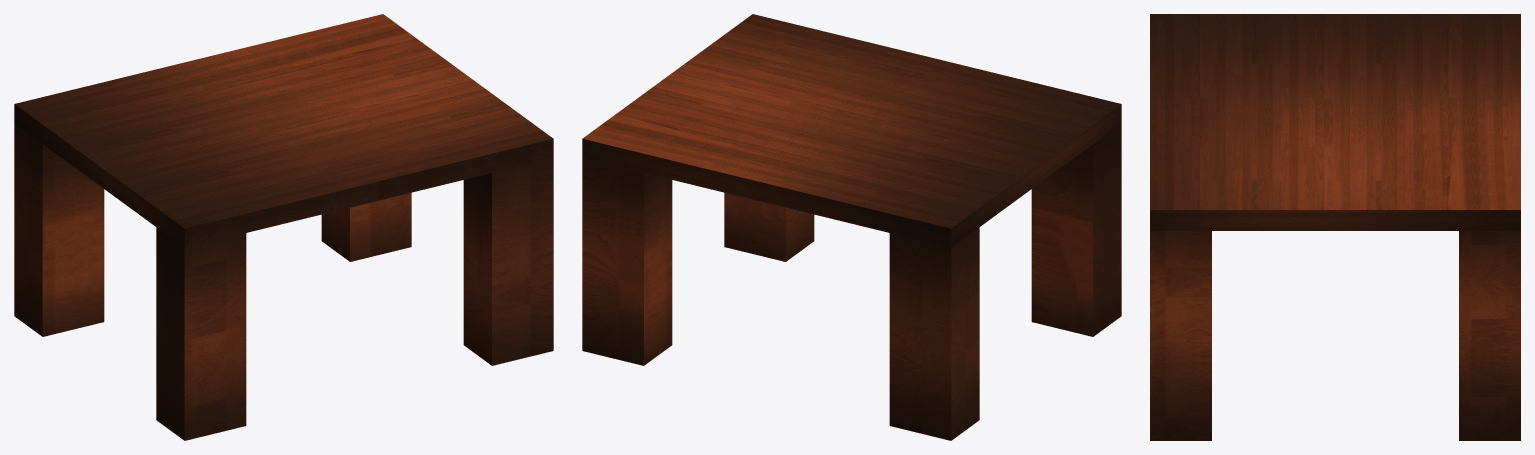
Rendered from table.obj.
The picture shows the model from 3 angles, left to right: view 1: azimuth 30°, elevation 25°; view 2: azimuth 150°, elevation 25°; view 3: azimuth 270°, elevation 25°; orthographic projection. The views are drawn at different scales.
Parts seen in each view (by area): view 1: Cube_Cube.001; view 2: Cube_Cube.001; view 3: Cube_Cube.001.
Boxes of the visible parts, x1,y1,x2,y2 form: Cube_Cube.001: (14,14,553,440); Cube_Cube.001: (582,14,1121,440); Cube_Cube.001: (1150,14,1520,440).
Bounding box in the file's own units: 4 × 2.2 × 3.2.
